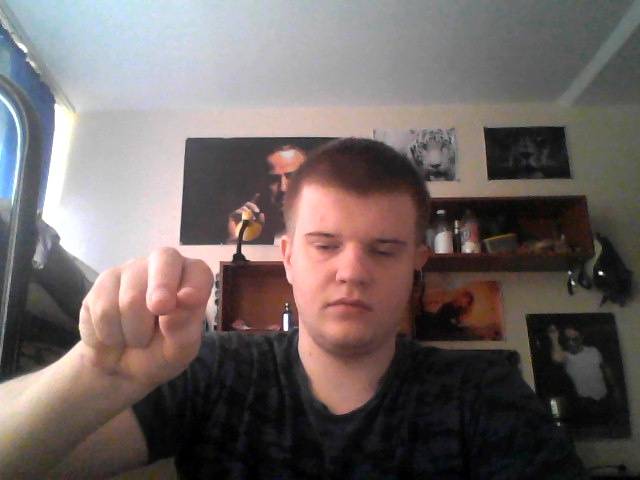no: (73, 244, 218, 386)
